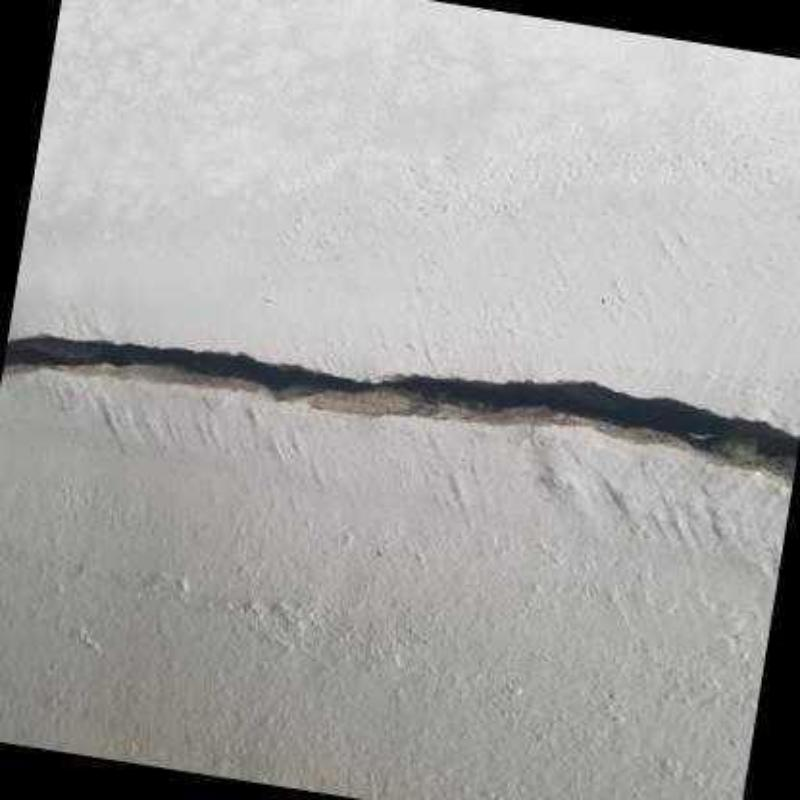pothole: (2, 332, 800, 489)
